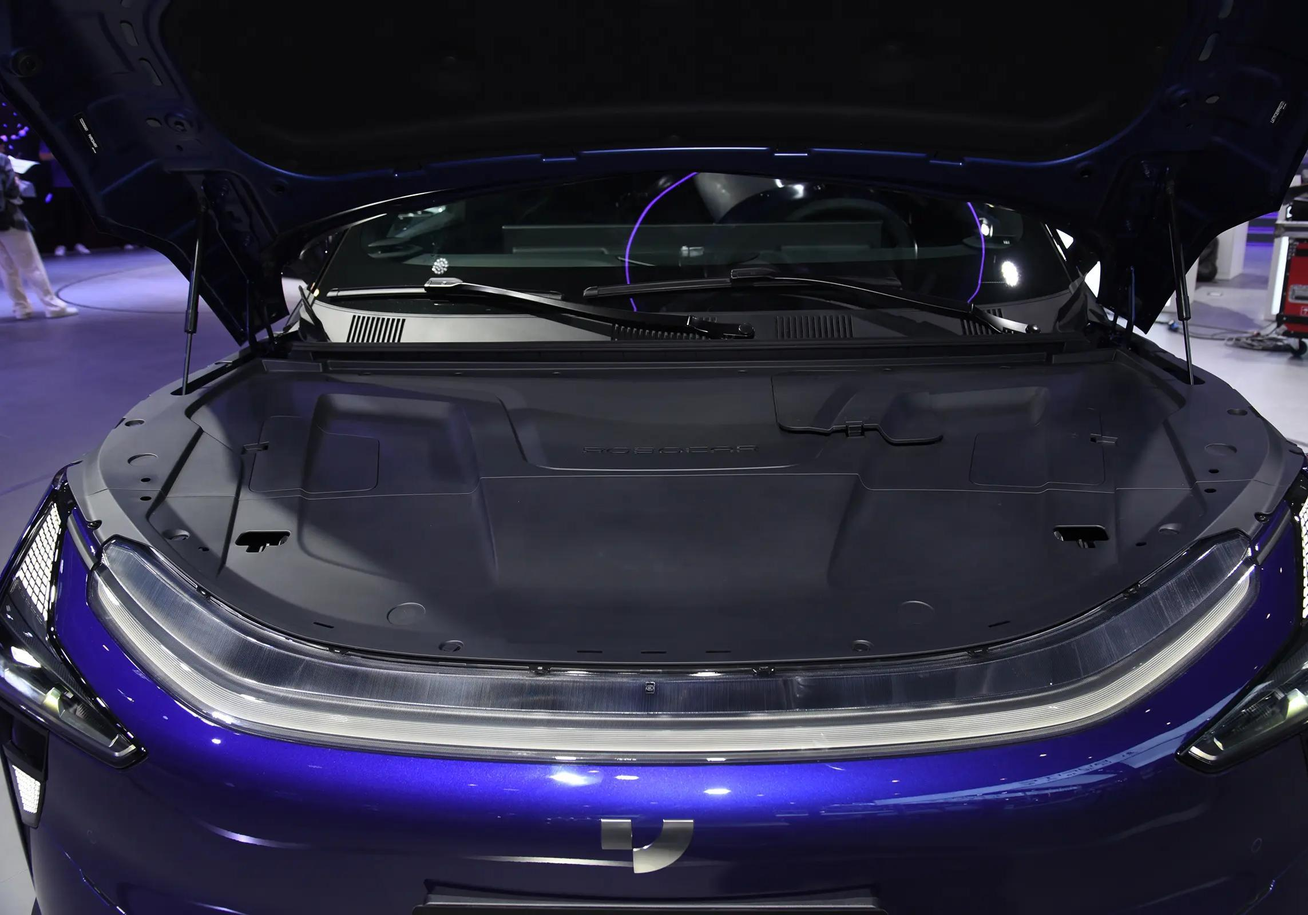JIYUE: (600, 817, 694, 874)
